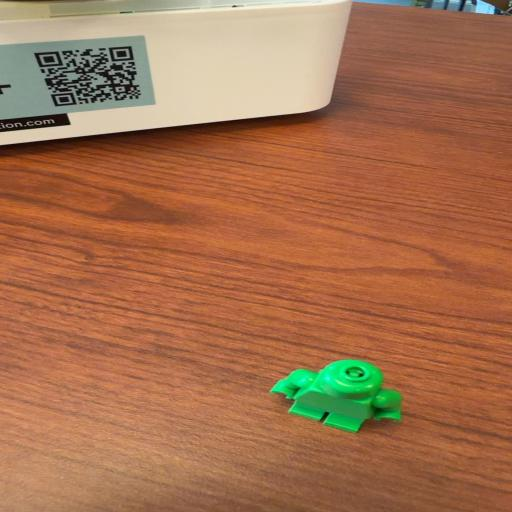UnoQ-minifig-detector: (270, 359, 402, 433)
